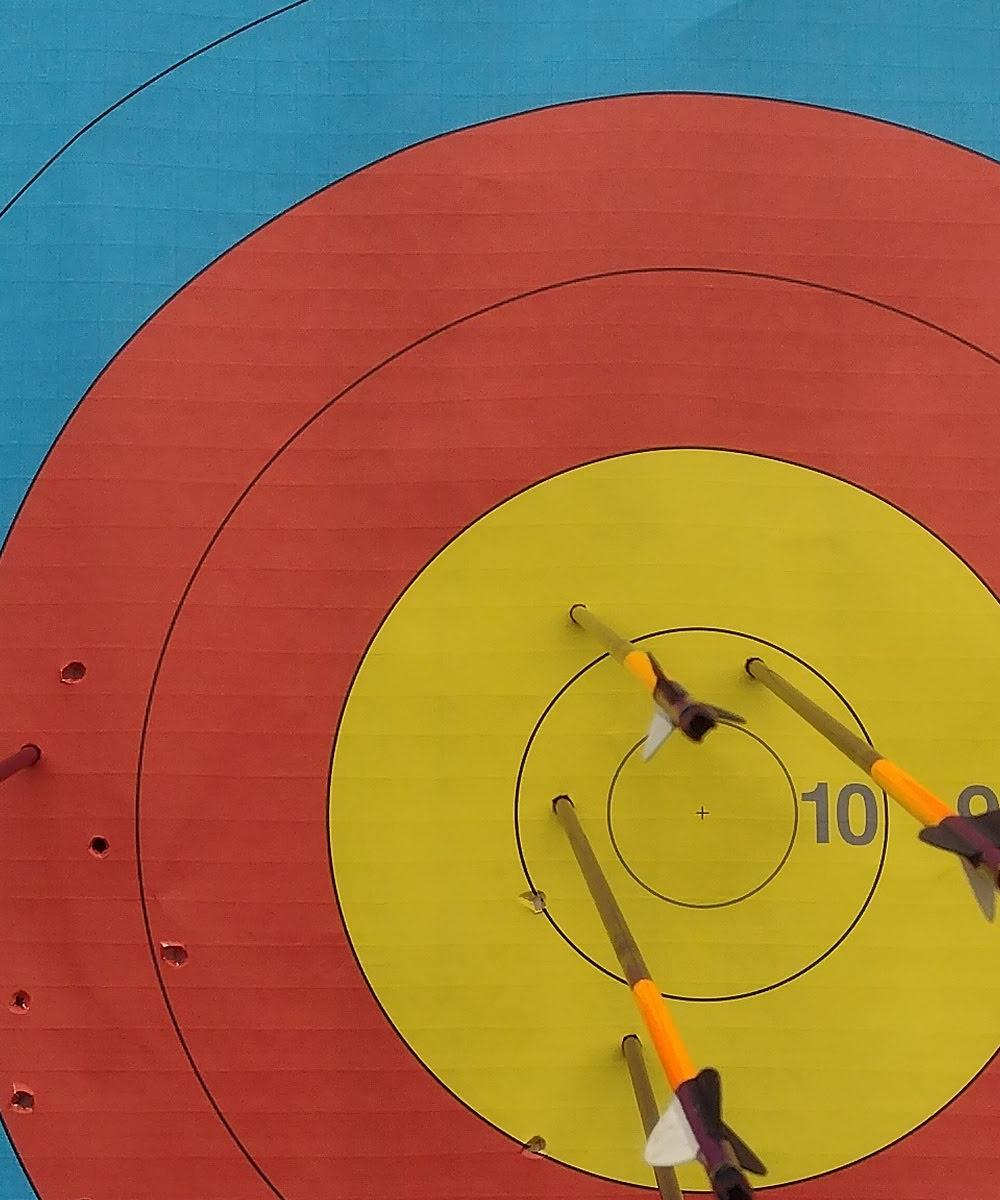10-Ring: (490, 605, 914, 1028)
Arrow: (483, 793, 777, 1200), (528, 603, 749, 796)
